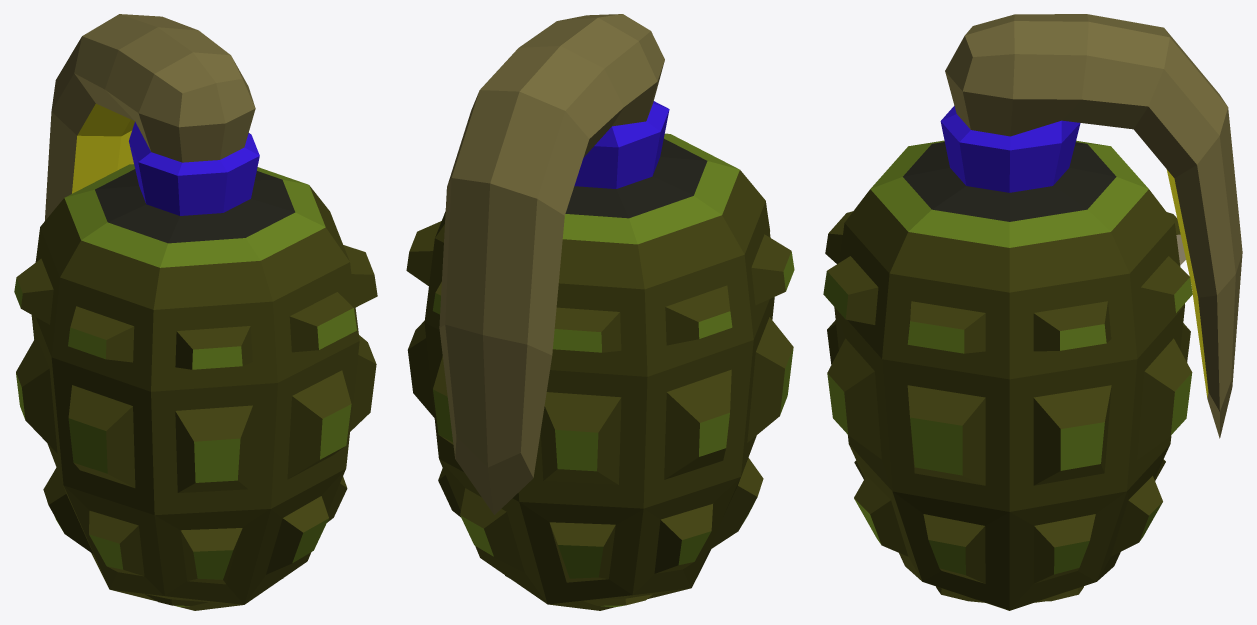
Rendered from Granu.fbx.
3 views of the same model, side by side, from view 1: azimuth 30°, elevation 25°; view 2: azimuth 150°, elevation 25°; view 3: azimuth 270°, elevation 25° (orthographic). The views are drawn at different scales.
Parts seen in each view (by area): view 1: Cube; view 2: Cube; view 3: Cube.
Part boxes in pixels (x1,y1,x2,y2): Cube: (14,14,377,610); Cube: (406,14,794,610); Cube: (823,14,1242,610).
Bounding box in the file's own units: 303 × 533 × 343.
